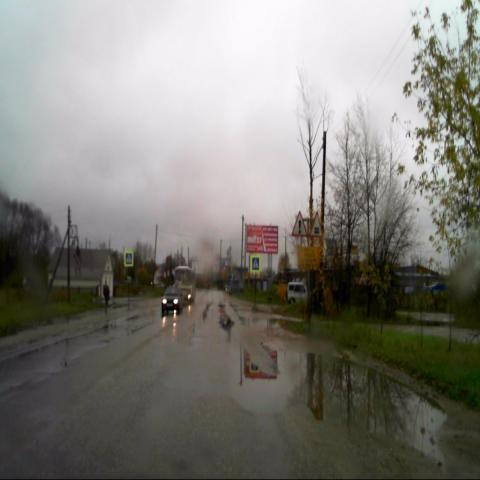1_1: (309, 211, 323, 238)
1_33: (291, 209, 307, 237)
